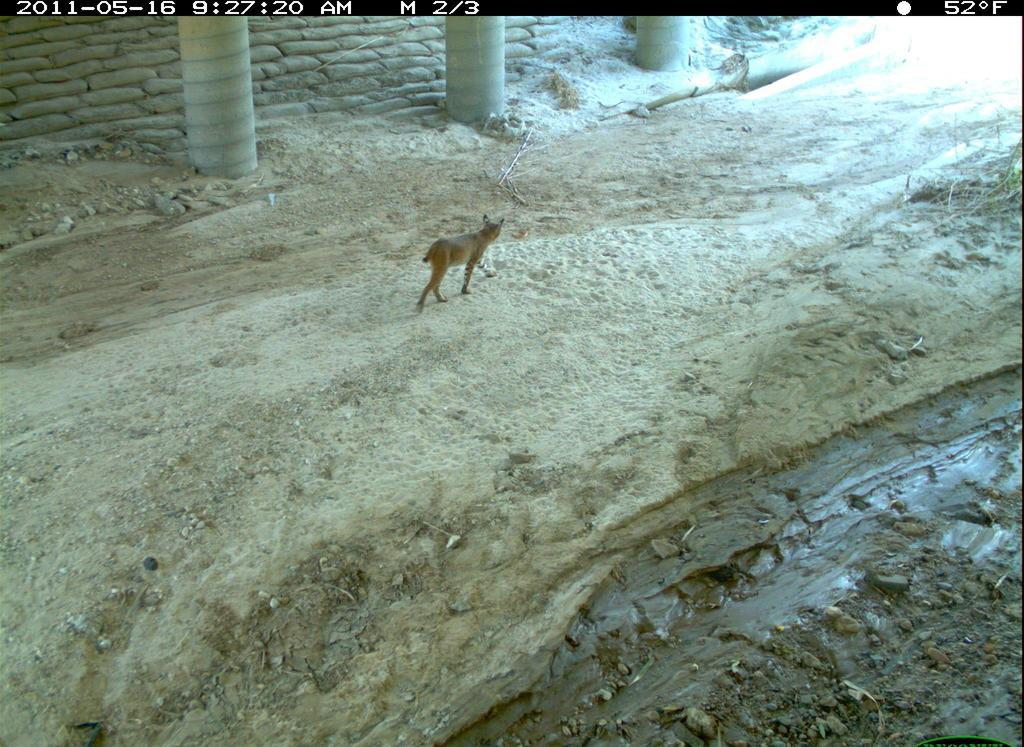bobcat: (410, 210, 514, 319)
